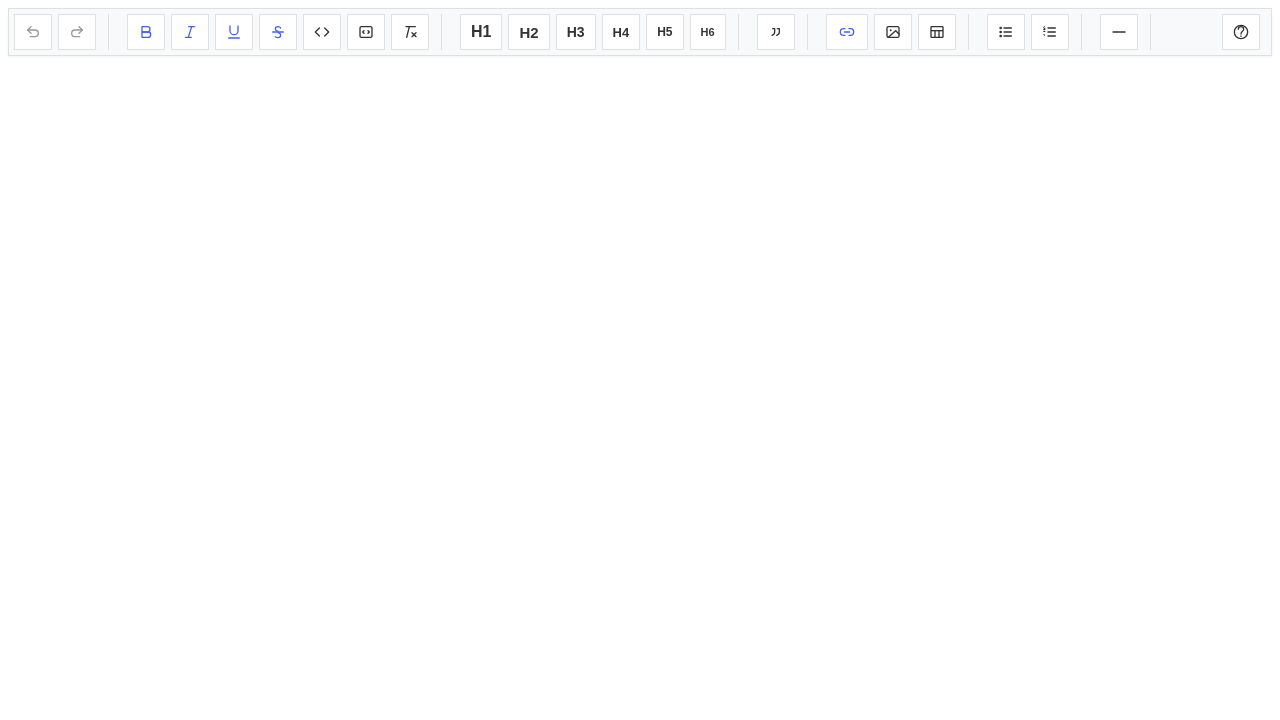
Test case: ToolbarPlugin Component › image insertion with required alt text › disables Insert until alt text is provided
Step 1. Click the button named "Insert Image" → click(893, 32), box left=874, top=14, right=912, bottom=50
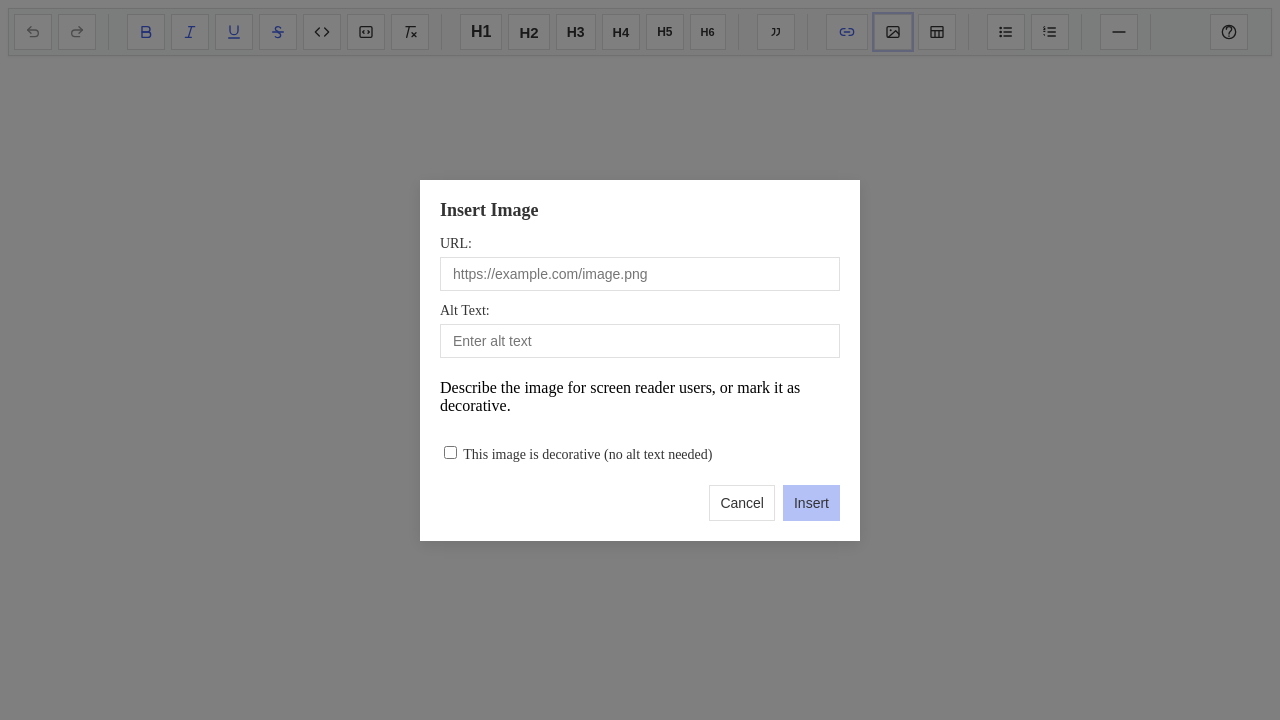
Step 2. Type "https://example.com/cat.png" into the field labelled "URL:" → (640, 274), box left=440, top=256, right=840, bottom=290
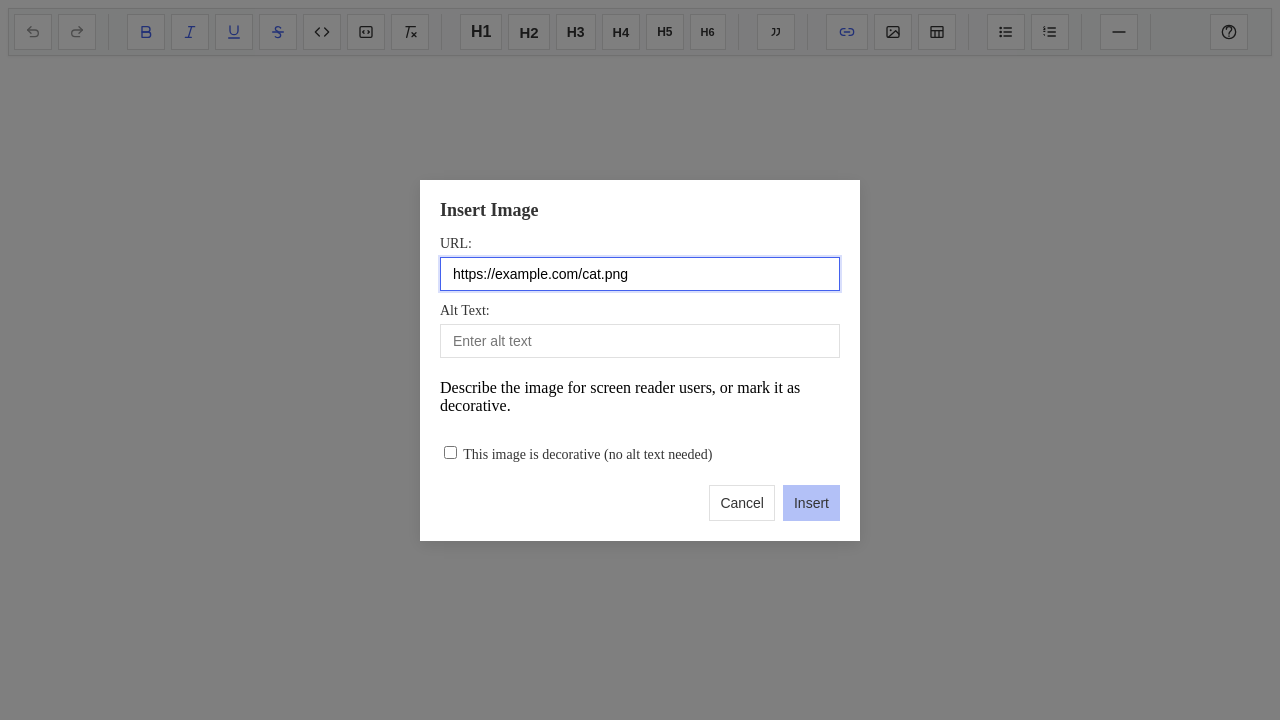
Expected: the button "Insert" is disabled, left=783, top=484, right=840, bottom=520
Step 3. Type "A cat" into the field labelled "Alt Text:" → (640, 340), box left=440, top=324, right=840, bottom=358
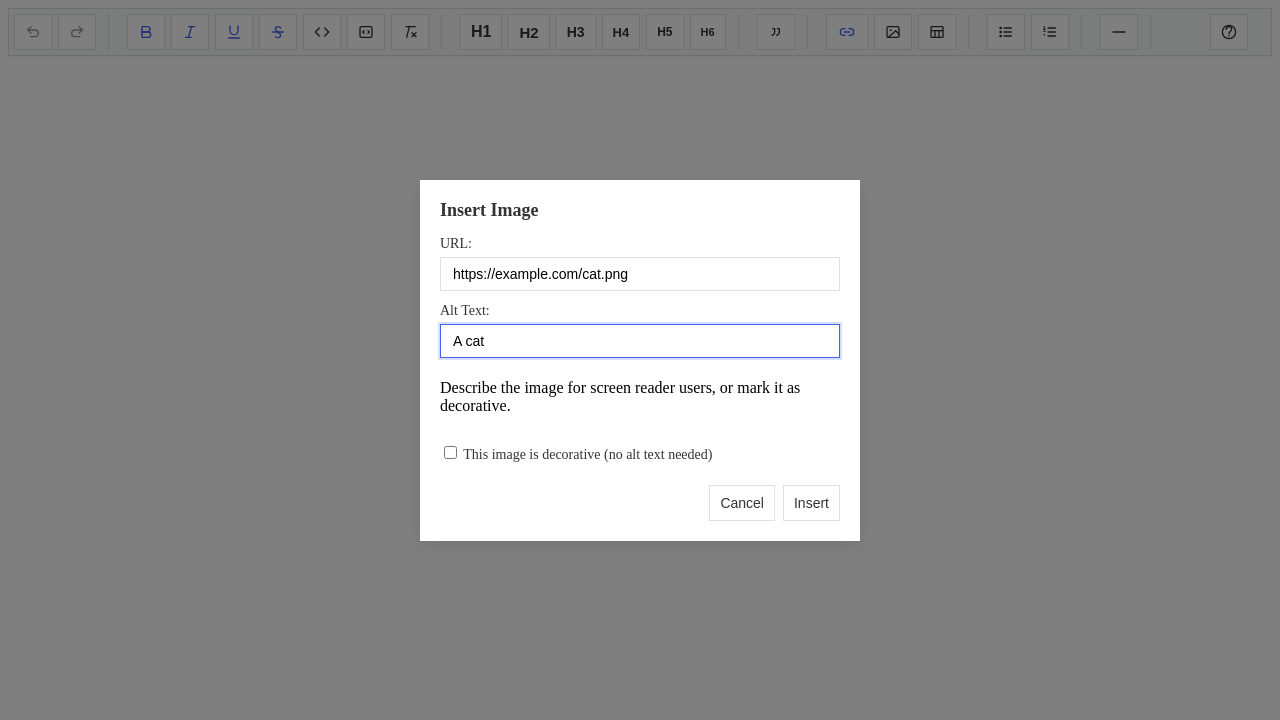
Expected: the button "Insert" is enabled, left=783, top=484, right=840, bottom=520
